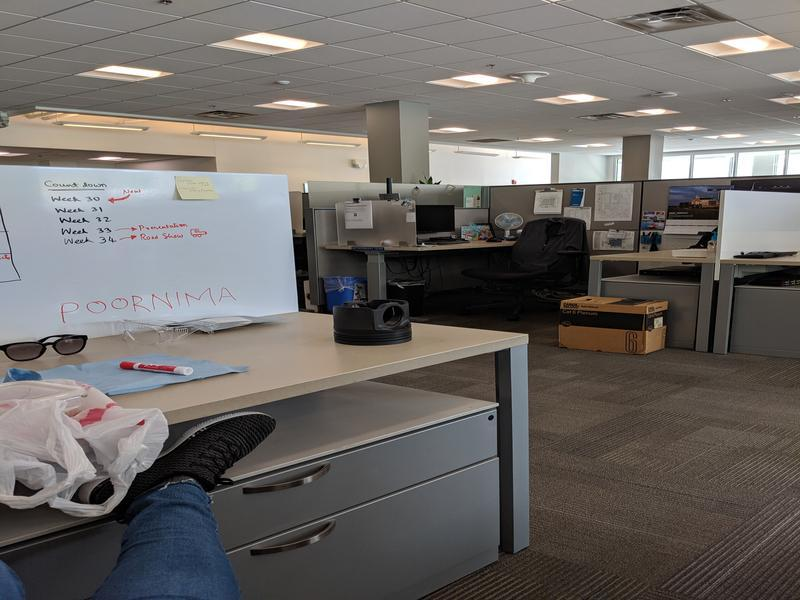piston: (329, 294, 416, 348)
